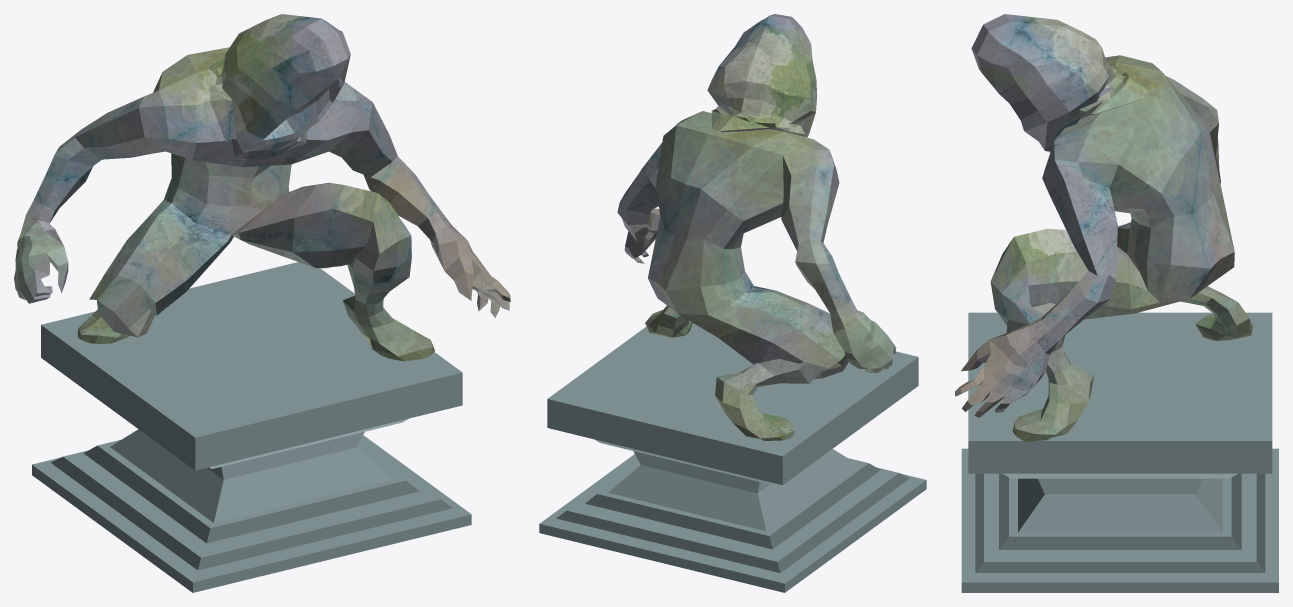
Rendered from RockSentry.fbx.
3 renders of one model, left to right at view 1: azimuth 30°, elevation 25°; view 2: azimuth 150°, elevation 25°; view 3: azimuth 270°, elevation 25°, orthographic. The views are drawn at different scales.
Parts seen in each view (by area): view 1: Ninja_posed; view 2: Ninja_posed; view 3: Ninja_posed.
Part boxes in pixels (bbox=[...]): Ninja_posed: bbox=[14, 14, 510, 592]; Ninja_posed: bbox=[539, 14, 926, 592]; Ninja_posed: bbox=[955, 14, 1278, 592].
Bounding box in the file's own units: 193 × 245 × 141.
